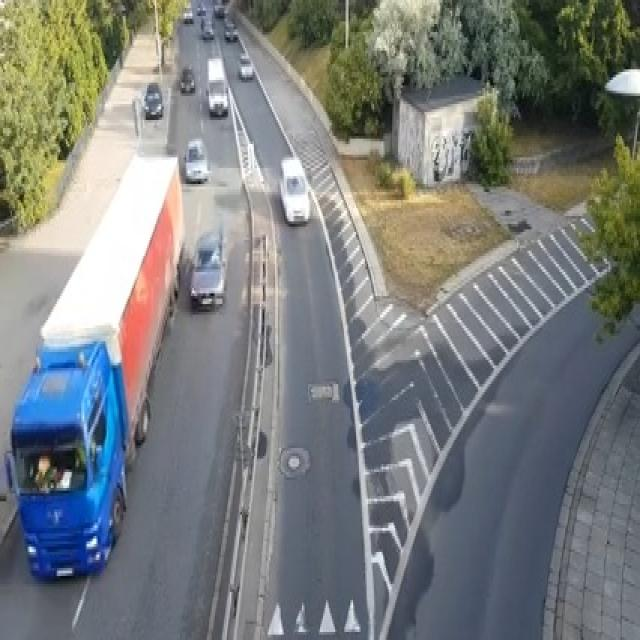car: (271, 151, 313, 225), (199, 218, 226, 313), (184, 141, 214, 186), (142, 73, 166, 125), (219, 19, 243, 42), (237, 51, 256, 80), (182, 62, 196, 98), (201, 14, 215, 44)
truck: (7, 153, 182, 616), (204, 57, 231, 119)
